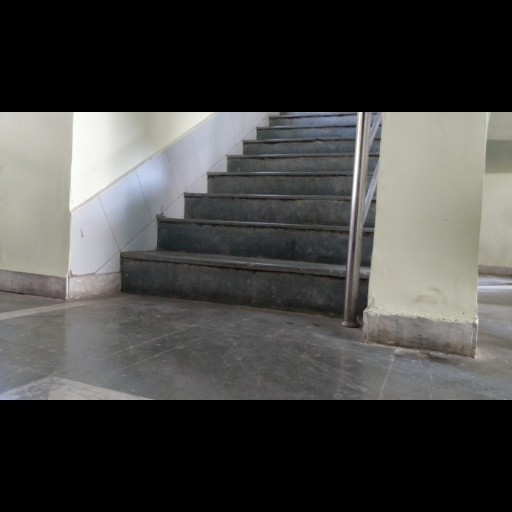Stairs: (122, 113, 356, 315)
